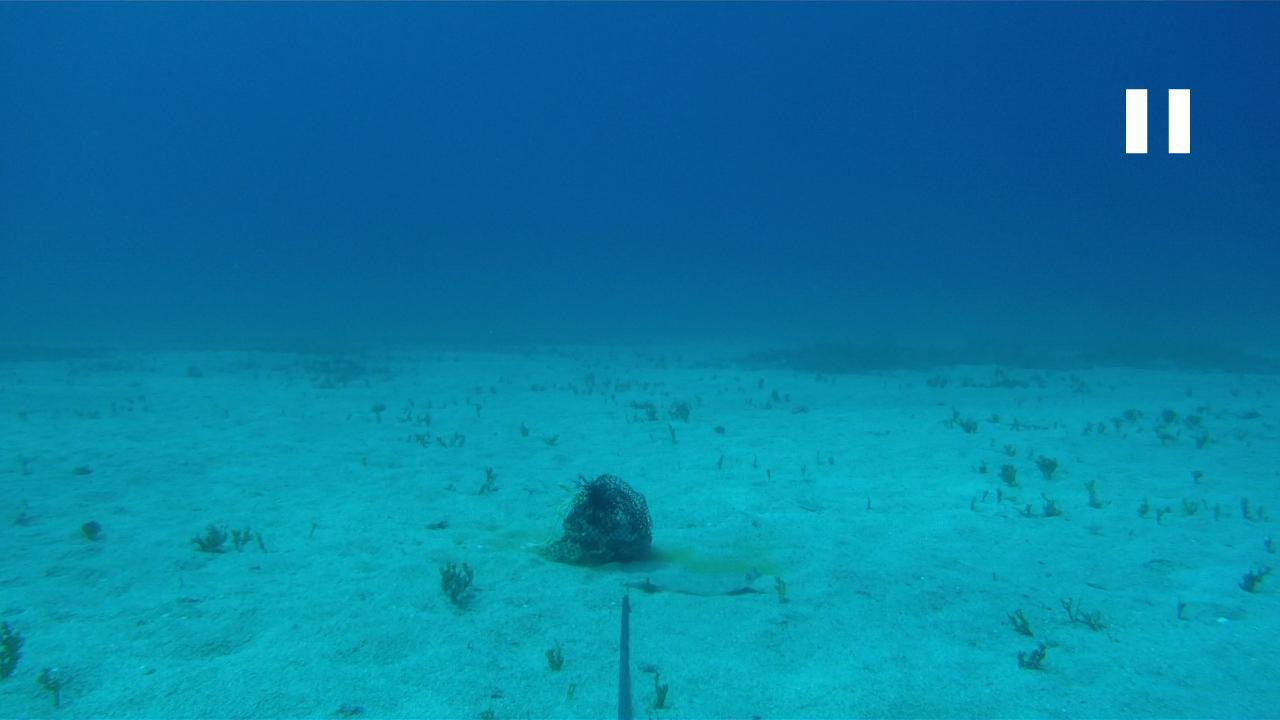bothus: (612, 568, 761, 600)
